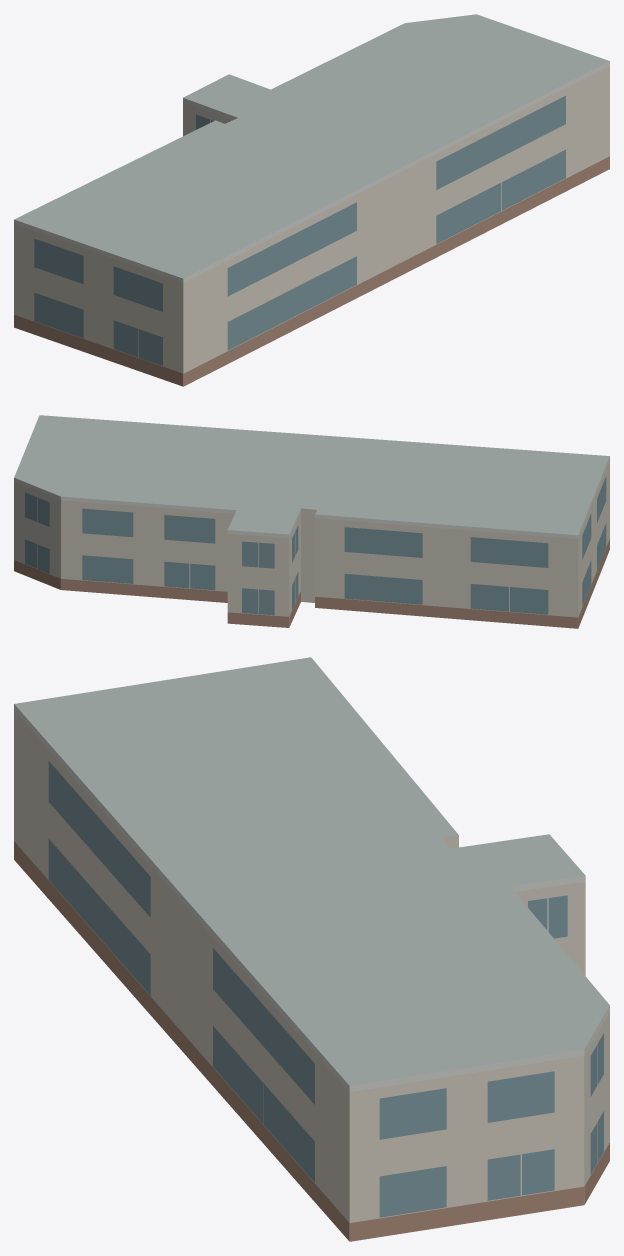
File: survey-upis-32604240.glb
3 renders of one model, top to bottom at view 1: azimuth 30°, elevation 25°; view 2: azimuth 150°, elevation 25°; view 3: azimuth 270°, elevation 25°, orthographic. The views are drawn at different scales.
Parts seen in each view (by area): view 1: survey-upis-32604240.tmp; view 2: survey-upis-32604240.tmp; view 3: survey-upis-32604240.tmp.
Boxes of the visible parts, bbox=[...] form: survey-upis-32604240.tmp: bbox=[14, 14, 609, 386]; survey-upis-32604240.tmp: bbox=[14, 415, 609, 628]; survey-upis-32604240.tmp: bbox=[14, 657, 609, 1241].
Bounding box in the file's own units: 36.02 × 6.1 × 21.15.
